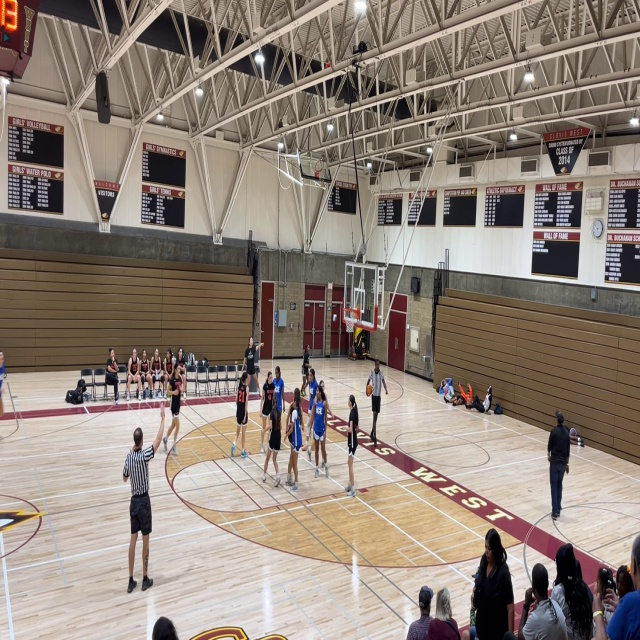Basketball: (366, 385, 372, 396)
